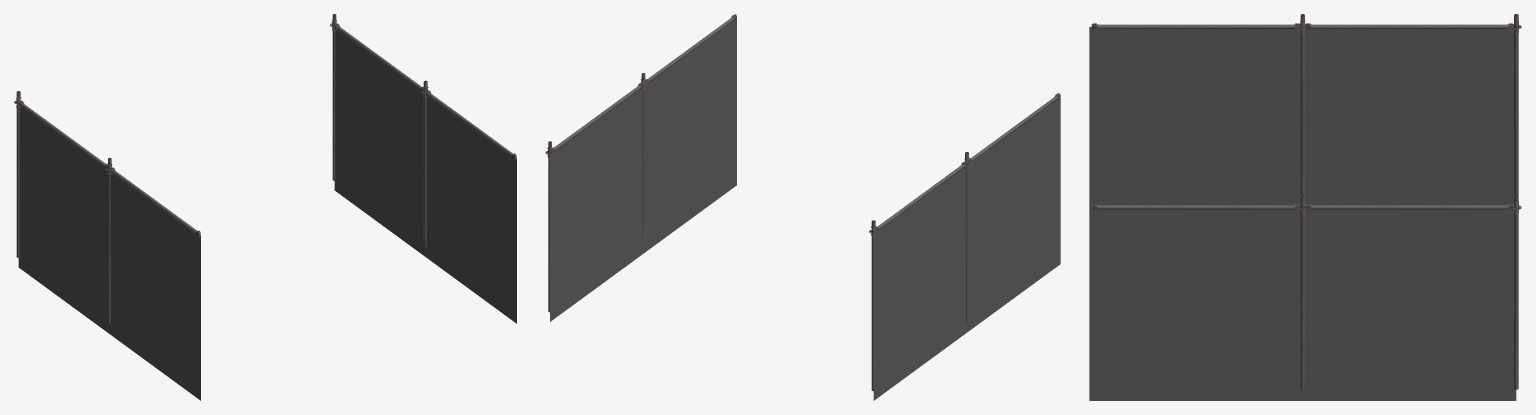
The model's file is scaffold_mid_192.fbx.
The picture shows the model from 3 angles, left to right: view 1: azimuth 30°, elevation 25°; view 2: azimuth 150°, elevation 25°; view 3: azimuth 270°, elevation 25°; orthographic projection. The views are drawn at different scales.
Parts seen in each view (by area): view 1: scaffold_mid_192; view 2: scaffold_mid_192; view 3: scaffold_mid_192.
Part boxes in pixels (x1,y1,x2,y2): scaffold_mid_192: [14, 14, 516, 400]; scaffold_mid_192: [545, 14, 1060, 400]; scaffold_mid_192: [1089, 14, 1521, 400].
Size of the model in its own units: 394 by 204 by 389.
